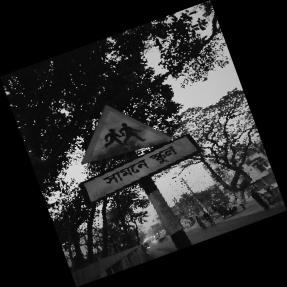School-in-front: (78, 103, 200, 204)
